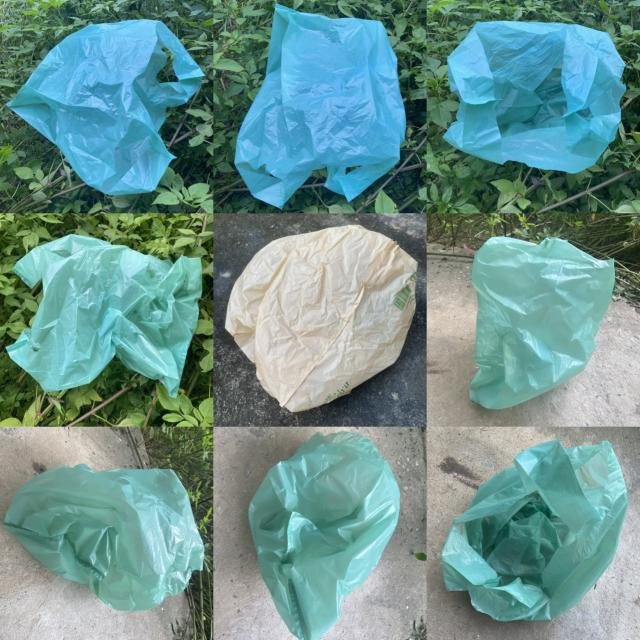Single-layer Plastic: (225, 225, 418, 411), (235, 5, 406, 207), (9, 20, 204, 195), (442, 440, 628, 621), (249, 431, 400, 640), (6, 235, 202, 396), (4, 464, 204, 611), (444, 21, 625, 173), (470, 236, 615, 409)
